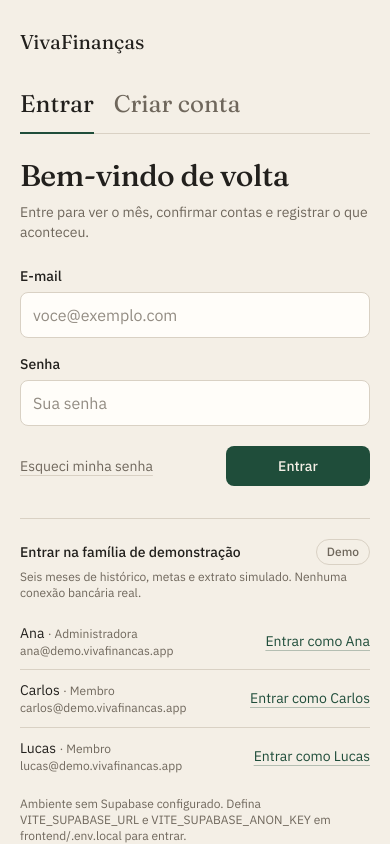
Test: Login › não cria família quando há convite pendente
Click the button "Criar conta". click: (177, 111)
box: [114,88,241,134]
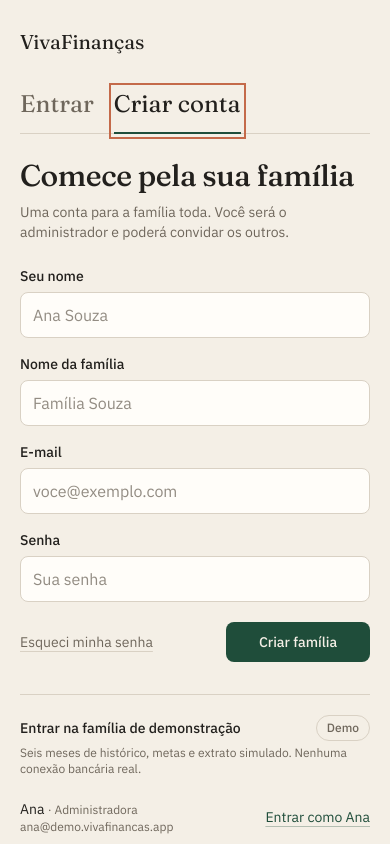
Type "Bia Lima" into the field labelled "Seu nome". click: (195, 315)
box: [20,292,370,338]
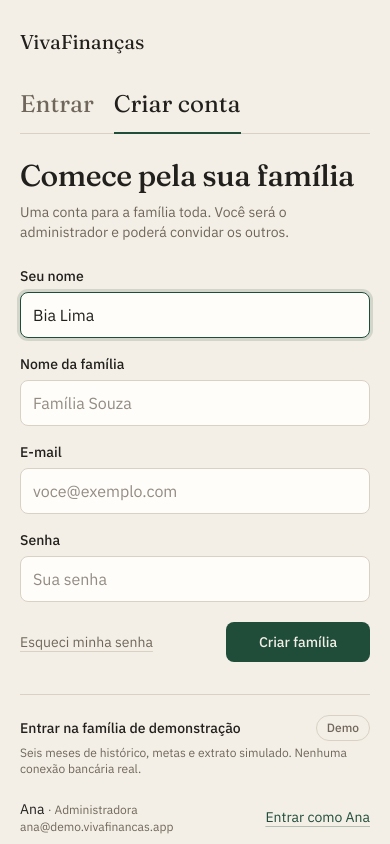
Type "Família Lima" into the field labelled "Nome da família". click: (195, 403)
box: [20,380,370,426]
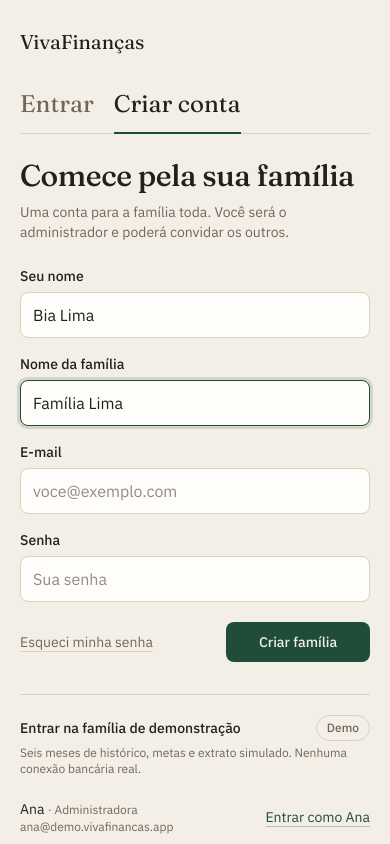
Type "bia@exemplo.com" into the field labelled "E-mail". click: (195, 491)
box: [20,468,370,514]
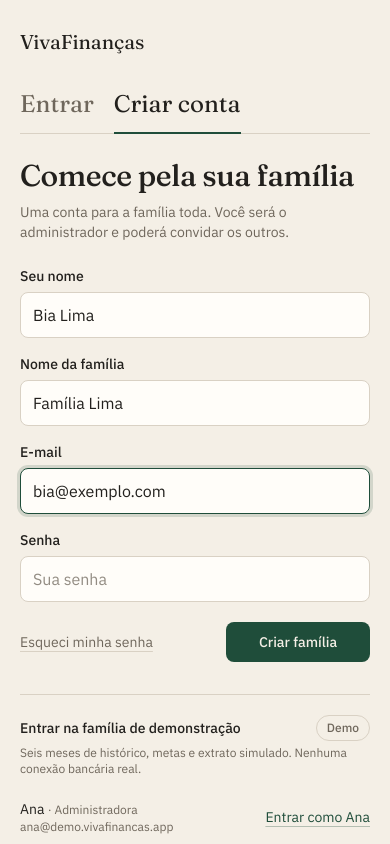
Type "segredo123" into the password field labelled "Senha". click: (195, 579)
box: [20,556,370,602]
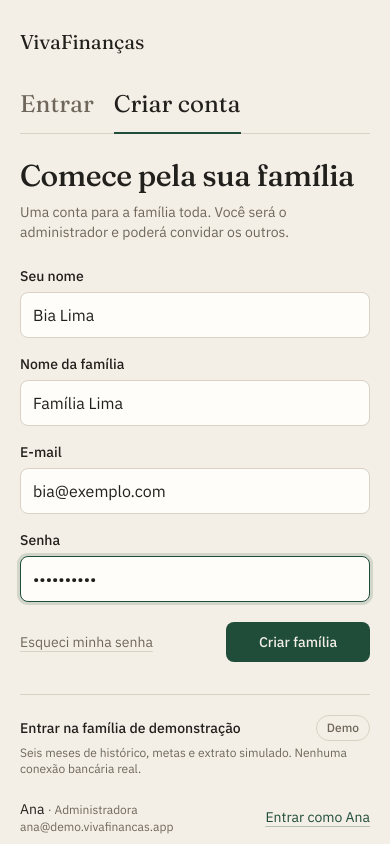
Click the button "Criar família". click: (298, 642)
box: [226,622,370,662]
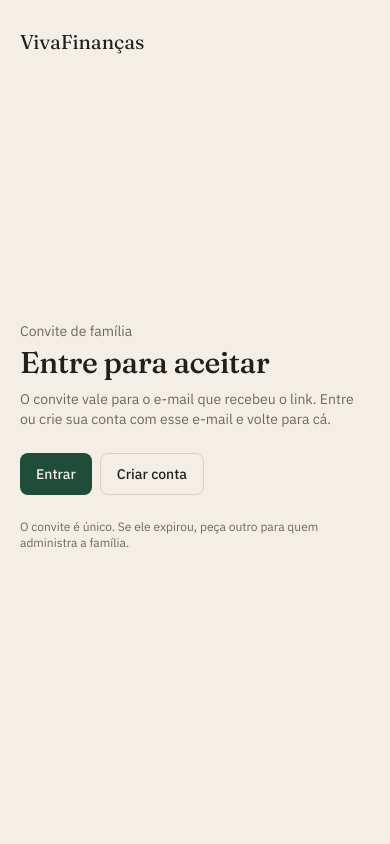
Expected: the heading "Entre para aceitar" is shown, [20,344,269,381]
